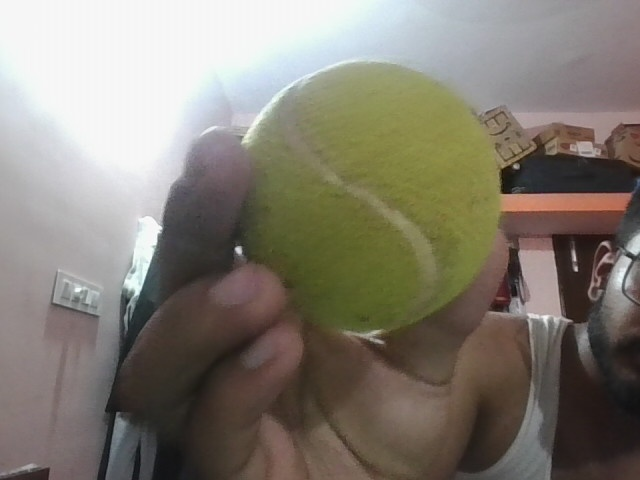greenball: (237, 61, 503, 324)
